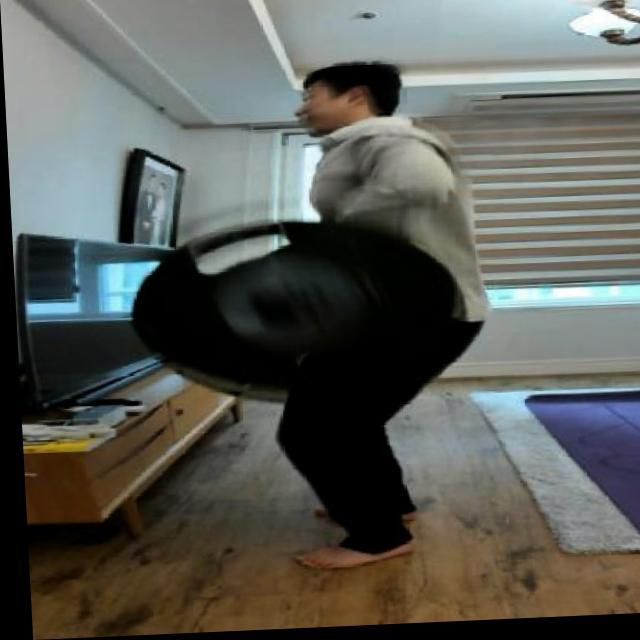barbell: (123, 216, 468, 423)
